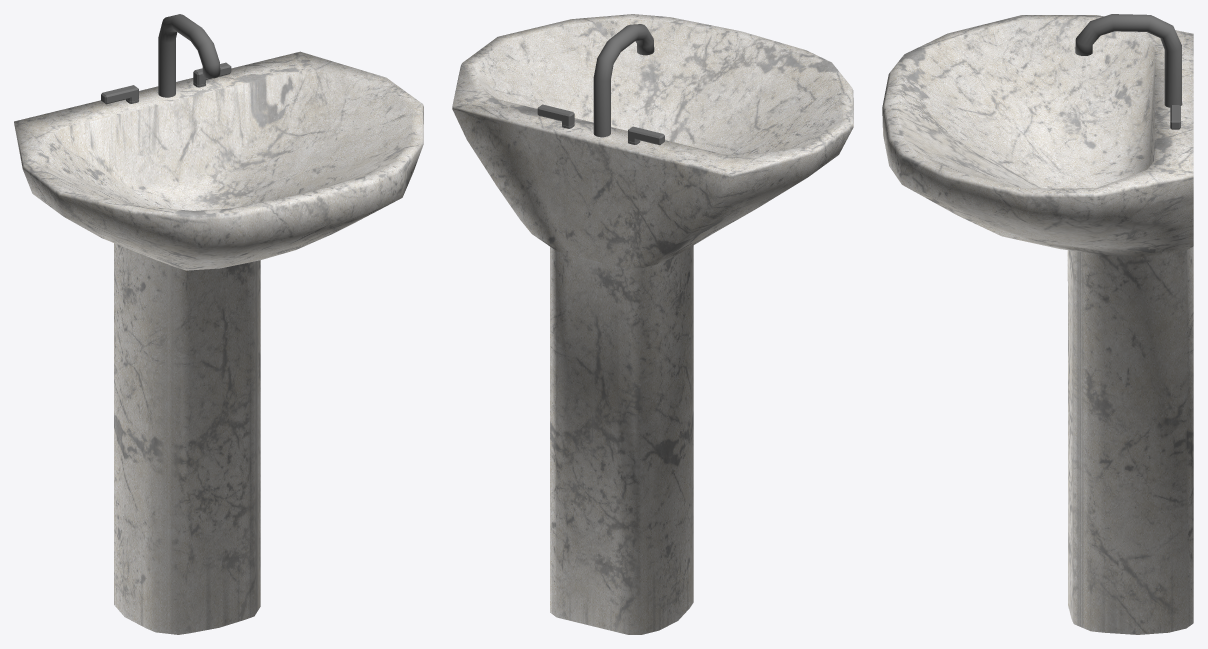
File: sink.fbx
3 renders of one model, left to right at view 1: azimuth 30°, elevation 25°; view 2: azimuth 150°, elevation 25°; view 3: azimuth 270°, elevation 25°, orthographic. The views are drawn at different scales.
Visible parts, largest first — view 1: sink; view 2: sink; view 3: sink.
Part boxes in pixels (<box>): sink: <box>14,14,423,634</box>; sink: <box>452,14,853,634</box>; sink: <box>882,14,1193,634</box>.
Bounding box in the file's own units: 94.88 × 145 × 69.28.
Materials: 1 (1 with a texture image).
